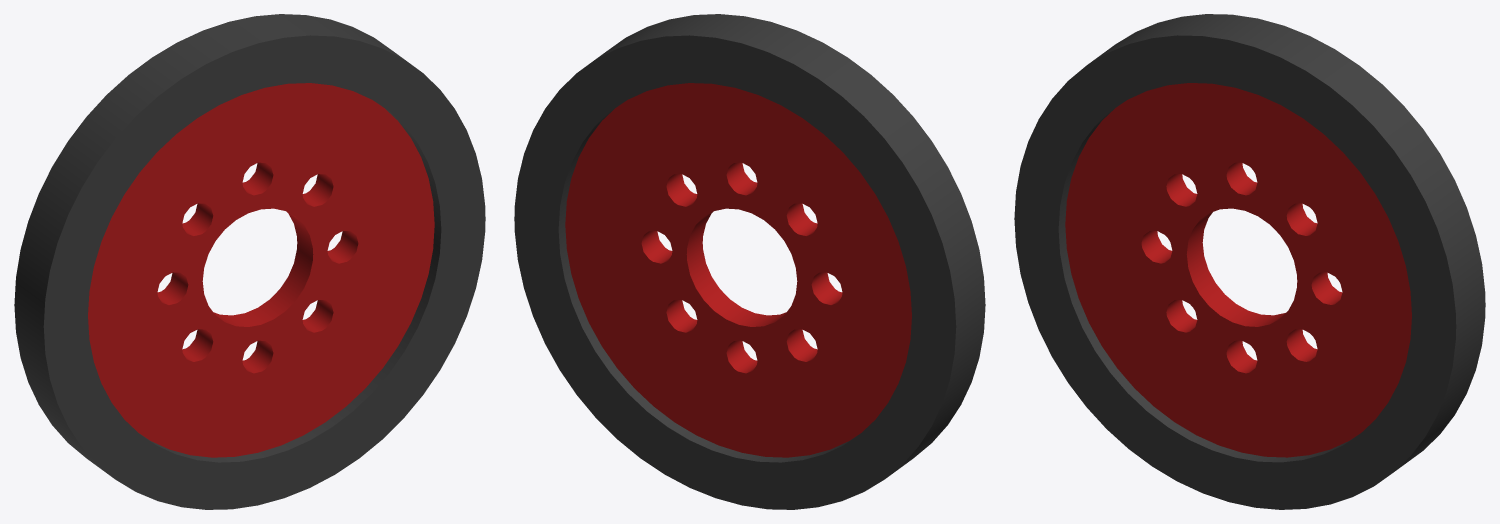
The model's file is ROB-12396.obj.
3 views of the same model, side by side, from view 1: azimuth 30°, elevation 25°; view 2: azimuth 150°, elevation 25°; view 3: azimuth 330°, elevation 25° (orthographic).
Parts seen in each view (by area): view 1: mesh 2 Boss-Extrude1, mesh 1 RO; view 2: mesh 2 Boss-Extrude1, mesh 1 RO; view 3: mesh 2 Boss-Extrude1, mesh 1 RO.
Boxes of the visible parts, x1=… form: mesh 2 Boss-Extrude1: x1=88, y1=83, x2=434, y2=457; mesh 1 RO: x1=14, y1=14, x2=485, y2=509; mesh 2 Boss-Extrude1: x1=565, y1=83, x2=911, y2=457; mesh 1 RO: x1=514, y1=14, x2=985, y2=509; mesh 2 Boss-Extrude1: x1=1065, y1=83, x2=1411, y2=457; mesh 1 RO: x1=1014, y1=14, x2=1485, y2=509.
Size of the model in its own units: 0.0508 by 0.0508 by 0.00584.
